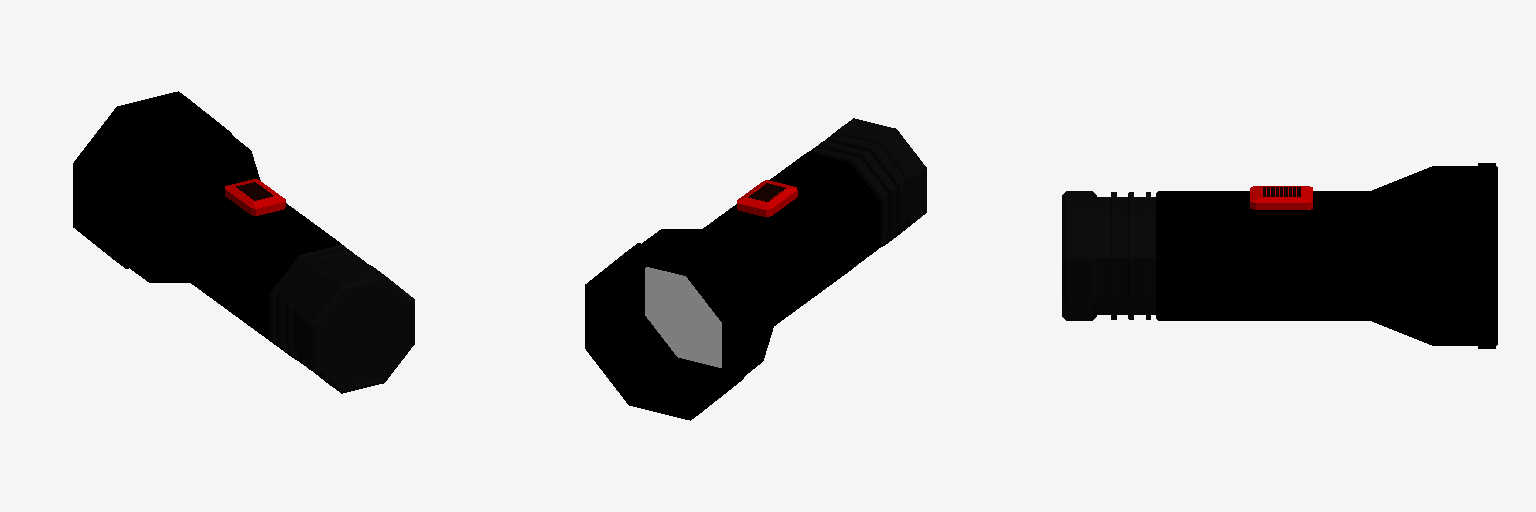
Rendered from Flashlight.obj.
3 renders of one model, left to right at view 1: azimuth 30°, elevation 25°; view 2: azimuth 150°, elevation 25°; view 3: azimuth 270°, elevation 25°, orthographic.
Parts seen in each view (by area): view 1: Base_Cylinder.001, Back_Cylinder, Button_Cube.001; view 2: Base_Cylinder.001, Back_Cylinder, Glass_Cylinder.002, Button_Cube.001; view 3: Base_Cylinder.001, Back_Cylinder, Button_Cube.001.
Boxes of the visible parts, x1,y1,x2,y2 form: Base_Cylinder.001: [73, 91, 348, 359]; Back_Cylinder: [269, 245, 414, 393]; Button_Cube.001: [225, 179, 285, 215]; Base_Cylinder.001: [585, 152, 880, 420]; Back_Cylinder: [809, 118, 926, 260]; Glass_Cylinder.002: [645, 267, 721, 367]; Button_Cube.001: [737, 180, 797, 216]; Base_Cylinder.001: [1156, 163, 1497, 348]; Back_Cylinder: [1062, 191, 1155, 320]; Button_Cube.001: [1250, 186, 1312, 209].
Bounding box in the file's own units: 0.9323 × 0.9323 × 2.36.